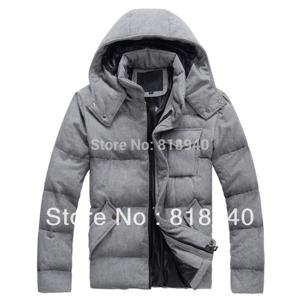C_jacket: (33, 3, 276, 297)
